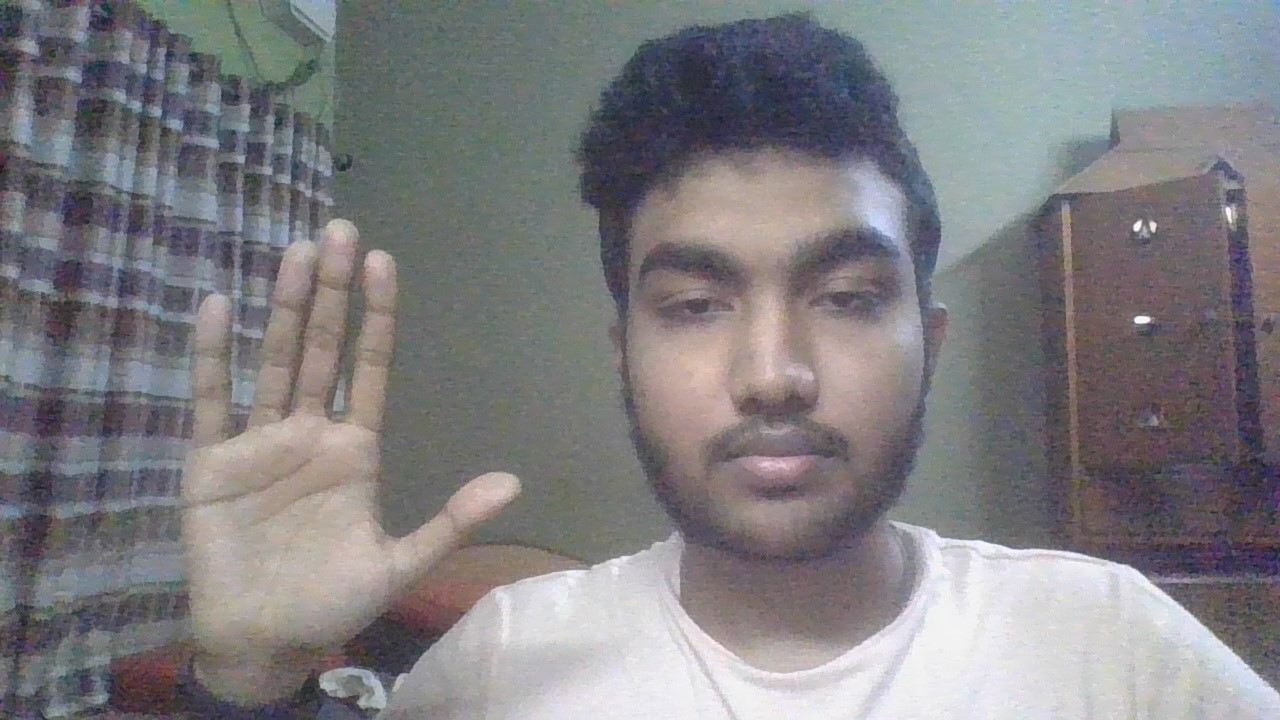Hello: (169, 209, 510, 649)
